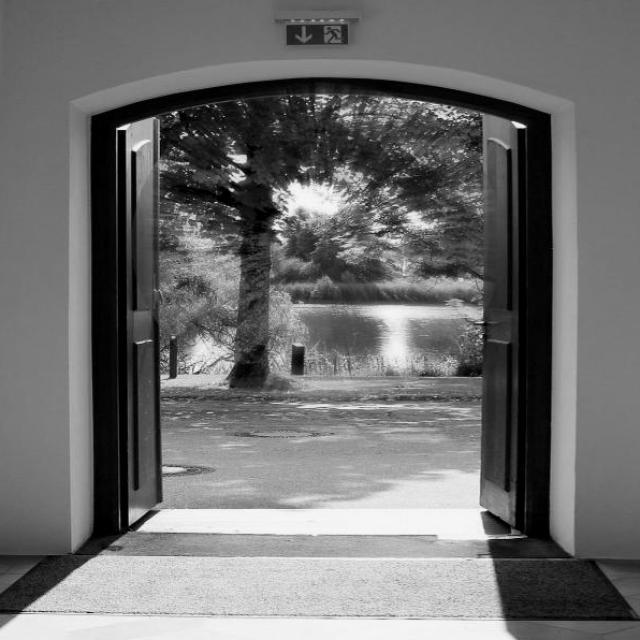door: (108, 106, 172, 540), (474, 109, 530, 528)
